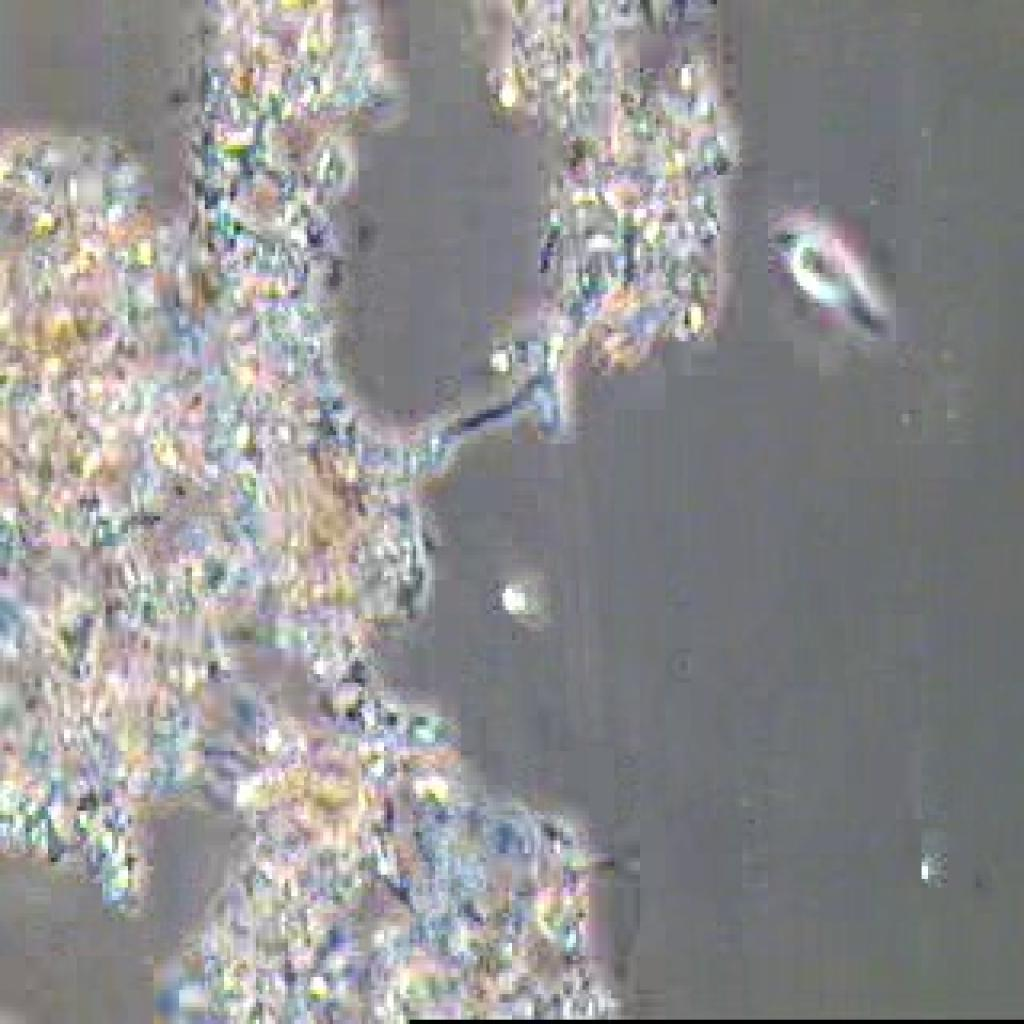Pristina: (756, 186, 898, 360)
